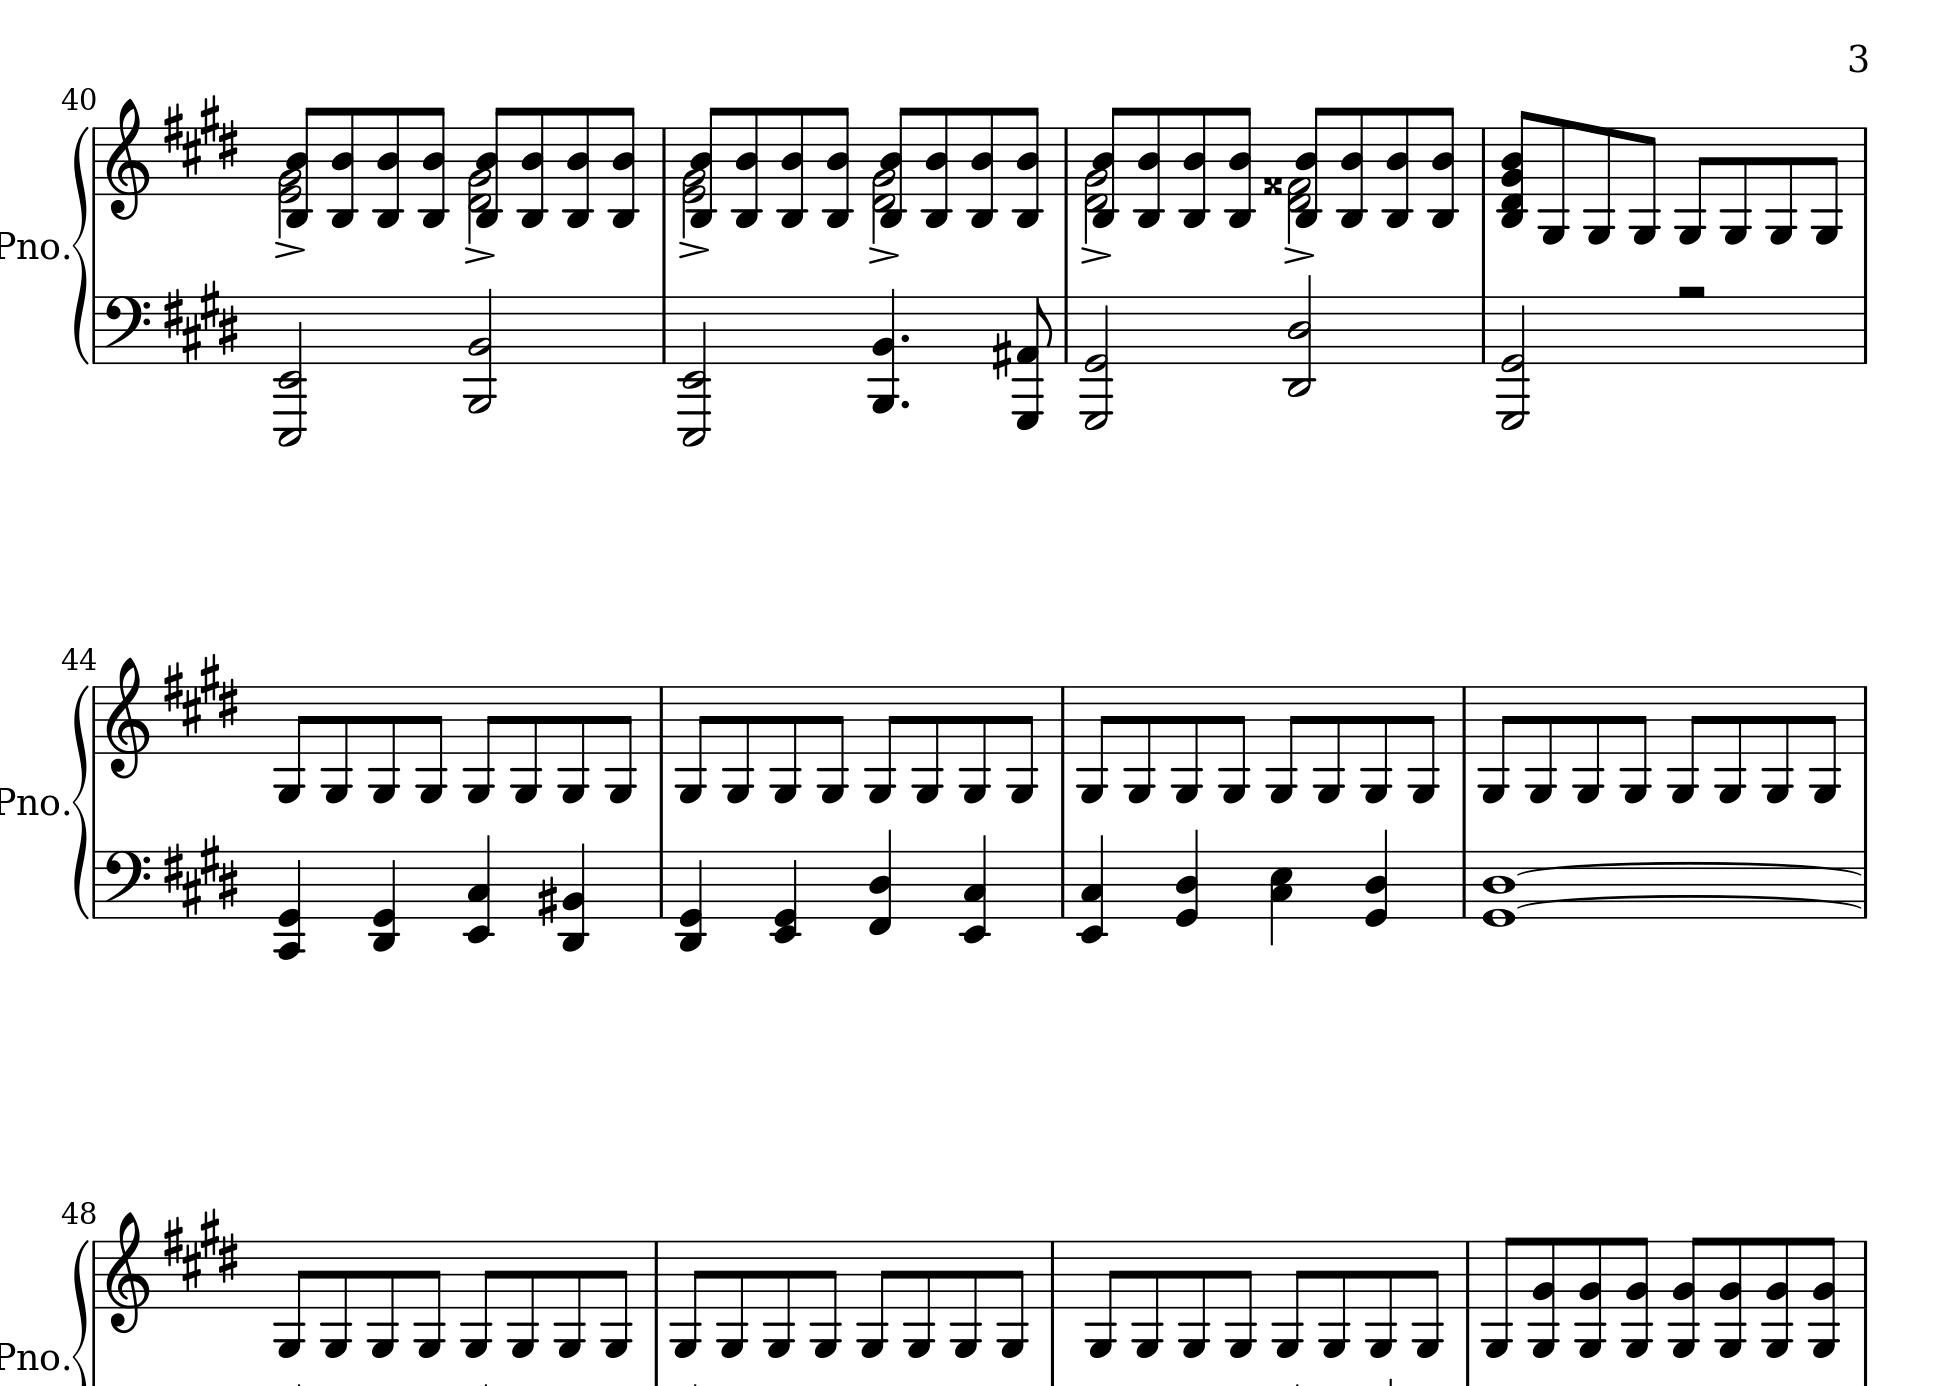0: (79, 85, 97, 112)
1_0_4: (1482, 850, 1516, 931)
2_-3_4: (1282, 274, 1320, 397)
2_-5_2: (462, 288, 498, 415)
2_-7_-2: (676, 295, 712, 448), (274, 295, 310, 448)
2_-7_0: (1497, 294, 1531, 433), (1080, 295, 1114, 432)
3: (1848, 40, 1869, 75)
4: (60, 643, 79, 673), (60, 85, 79, 112), (79, 645, 97, 673), (60, 1198, 78, 1225)
4_-1_4: (868, 829, 894, 937)
4_-2_0: (768, 850, 804, 945)
4_-2_3: (462, 834, 498, 945), (1077, 832, 1111, 946), (958, 834, 993, 943)
4_-3_0: (367, 849, 402, 952), (675, 849, 709, 952)
4_-3_2: (558, 841, 589, 954)
4_-4_0: (271, 849, 307, 961)
4_-5_2: (865, 286, 901, 414)
4_0_4: (1362, 829, 1390, 927), (1174, 829, 1201, 928)
4_3_5: (1269, 850, 1294, 949)
8: (79, 1198, 97, 1225)
8_-3_4: (283, 108, 321, 228), (609, 103, 637, 229), (733, 103, 762, 229), (880, 103, 909, 229), (922, 103, 951, 229), (967, 103, 996, 229), (328, 105, 357, 229), (375, 105, 403, 229), (517, 105, 546, 229), (562, 105, 591, 229), (690, 103, 718, 228), (823, 105, 852, 229), (1093, 105, 1122, 229), (1297, 106, 1326, 231), (1338, 105, 1366, 229), (1384, 106, 1413, 231), (1428, 105, 1456, 229), (421, 103, 448, 229), (475, 103, 502, 229), (778, 103, 805, 229), (1182, 106, 1209, 232), (1017, 106, 1044, 231), (1137, 106, 1164, 231), (1227, 106, 1254, 231)
8_-5: (856, 1236, 895, 1360), (273, 682, 310, 805), (463, 682, 501, 805), (675, 682, 712, 805), (1668, 682, 1705, 805), (273, 1237, 310, 1360), (460, 1237, 498, 1360), (1272, 1237, 1309, 1360), (669, 1237, 706, 1359), (1084, 1237, 1122, 1359), (1482, 1234, 1518, 1360), (865, 682, 901, 805), (1267, 682, 1303, 805), (1479, 682, 1515, 805), (1077, 684, 1113, 804), (1677, 124, 1711, 247), (319, 1236, 352, 1360), (367, 1236, 400, 1360), (1179, 1236, 1212, 1360), (321, 682, 354, 805), (1008, 682, 1041, 805), (1410, 682, 1443, 805), (1620, 682, 1653, 805), (810, 1237, 843, 1360), (601, 1237, 634, 1359), (1413, 1237, 1446, 1359), (951, 1237, 984, 1357), (555, 1236, 586, 1360), (1540, 115, 1570, 246), (1812, 124, 1843, 247), (369, 682, 400, 805), (417, 682, 448, 805), (606, 682, 637, 805), (723, 682, 754, 805), (817, 682, 849, 805), (960, 682, 991, 805), (1125, 682, 1156, 805), (1219, 682, 1251, 805), (1314, 682, 1345, 805), (1362, 682, 1393, 805), (1527, 682, 1558, 805), (1716, 682, 1747, 805), (765, 1236, 796, 1359), (1227, 1237, 1258, 1360), (1630, 124, 1662, 246), (771, 682, 802, 804), (1810, 684, 1842, 805), (414, 1237, 445, 1359), (999, 1237, 1030, 1359), (508, 1237, 540, 1357), (904, 1237, 936, 1357), (1320, 1237, 1351, 1357), (1585, 121, 1615, 246), (511, 682, 541, 805), (913, 682, 943, 805), (1173, 682, 1203, 805), (1575, 682, 1605, 805), (1764, 682, 1794, 805), (1722, 124, 1752, 246), (1767, 124, 1797, 246), (559, 682, 589, 804), (718, 1237, 748, 1359), (1134, 1237, 1164, 1359), (1368, 1237, 1398, 1357)
8_-5_2: (1527, 1234, 1561, 1360), (1759, 1234, 1794, 1360), (1573, 1233, 1608, 1357), (1669, 1234, 1704, 1359), (1714, 1234, 1749, 1359), (1806, 1237, 1840, 1362), (1620, 1231, 1653, 1357)
8_-7_1: (1012, 297, 1057, 430)
8_4th: (1500, 111, 1536, 229)
Accent_above: (675, 238, 711, 261), (1281, 243, 1317, 265), (1078, 244, 1114, 267), (271, 238, 307, 259), (460, 244, 496, 265), (865, 244, 901, 265)
Brace: (70, 124, 90, 364), (72, 682, 90, 919)
DSharp: (1263, 175, 1284, 196), (1263, 175, 1284, 193)
E_S: (160, 652, 240, 738), (160, 1207, 240, 1293), (162, 280, 240, 364), (162, 834, 240, 918), (162, 94, 238, 178)
Fclef: (102, 294, 151, 367), (103, 847, 151, 922)
Gclef: (103, 655, 151, 781), (103, 1209, 151, 1335), (103, 97, 151, 222)
Pno: (1, 783, 61, 823), (1, 1336, 61, 1375), (1, 226, 60, 265)
Rests2: (1674, 280, 1710, 301)
Sharp: (535, 873, 559, 928), (990, 328, 1012, 381)
Single_barline: (1458, 1240, 1477, 1309), (646, 1240, 666, 1309), (654, 295, 673, 363), (1857, 126, 1875, 196), (1855, 295, 1873, 364), (1054, 685, 1072, 754), (1455, 685, 1473, 754), (1857, 685, 1875, 754), (1857, 850, 1875, 919), (1044, 1240, 1062, 1309), (655, 127, 673, 195), (1474, 295, 1492, 363), (652, 687, 670, 754), (1057, 127, 1075, 193), (652, 850, 670, 916), (1857, 1239, 1873, 1309), (1456, 850, 1473, 918), (1476, 129, 1492, 193), (1059, 295, 1074, 363), (1056, 850, 1071, 916), (88, 685, 102, 754), (88, 1240, 102, 1309), (88, 127, 102, 195), (88, 295, 102, 363), (88, 850, 102, 918)
dot: (898, 397, 912, 411), (898, 331, 910, 343)
